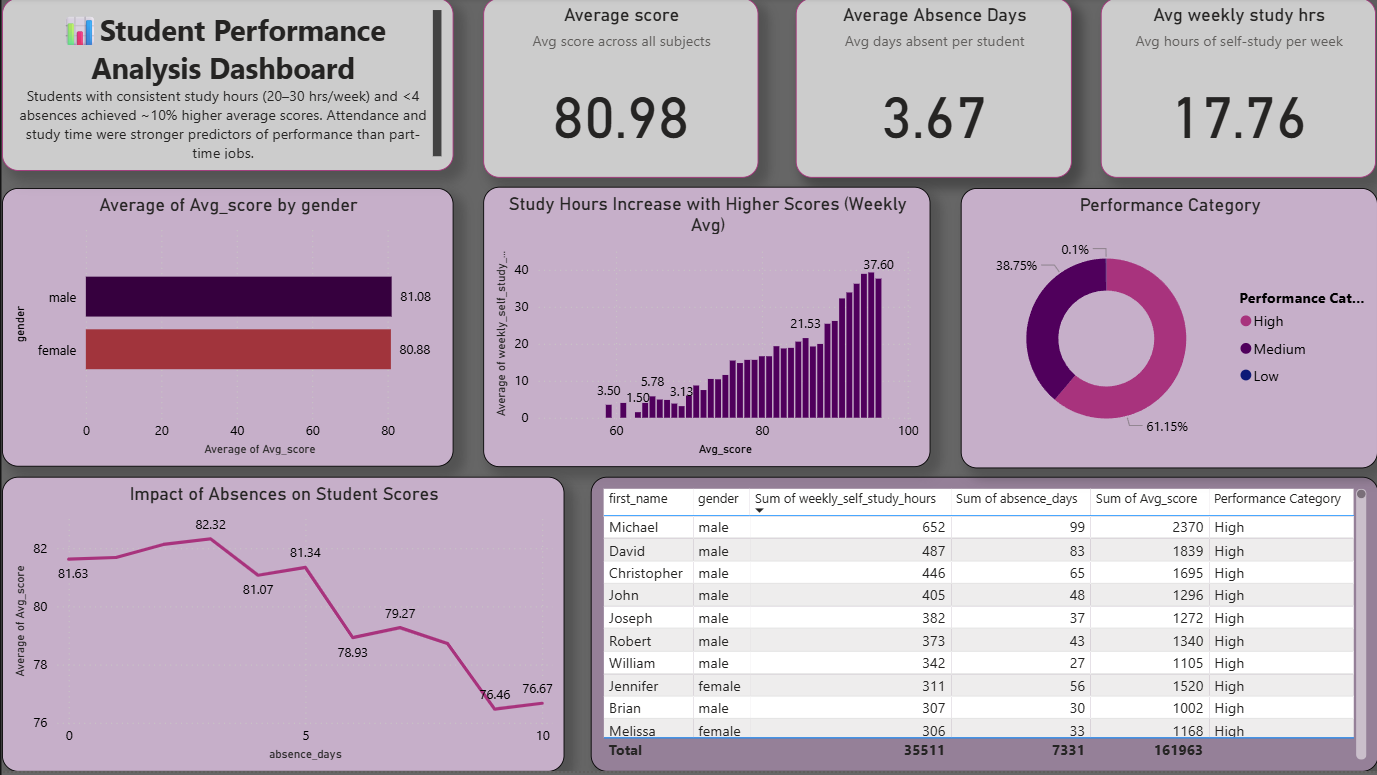

The dashboard page shown, as its layout file describes it:
{"tool":"powerbi","page":{"name":"Page 1","canvas":[1280,720],"ordinal":0},"visuals":[{"type":"card","title":"Average score","fields":{"Values":["student-scores.Avg_score"]},"box":[447.7,0,255.8,167.4],"z":0},{"type":"actionButton","box":[0,0,100,40],"z":1000},{"type":"card","title":"Avg weekly study hrs","fields":{"Values":["student-scores.weekly_self_study_hours"]},"box":[1022.1,0,256,167.4],"z":2000},{"type":"card","title":"Average Absence Days","fields":{"Values":["student-scores.absence_days"]},"box":[738.4,0,257,167.4],"z":3000},{"type":"barChart","fields":{"Category":["student-scores.gender"],"Y":["student-scores.Avg_score"]},"box":[0,176.7,419.8,259.3],"z":4000},{"type":"columnChart","title":"Study Hours Increase with Higher Scores (Weekly Avg)","fields":{"Y":["student-scores.weekly_self_study_hours"],"Category":["student-scores.Avg_score"]},"box":[447.7,175.6,416.3,260.5],"z":5000},{"type":"tableEx","fields":{"Values":["student-scores.first_name","student-scores.gender","student-scores.weekly_self_study_hours","student-scores.absence_days","student-scores.Avg_score","student-scores.Performance Category"]},"box":[547.7,445.4,732.6,274.4],"z":6000},{"type":"lineChart","title":"Impact of Absences on Student Scores","fields":{"Category":["student-scores.absence_days"],"Y":["student-scores.Avg_score"]},"box":[0,445.4,523.3,274.4],"z":7000},{"type":"donutChart","title":" Performance Category","fields":{"Category":["student-scores.Performance Category"],"Y":["student-scores.id"]},"box":[891.9,176.7,388.4,260.5],"z":8000},{"type":"textbox","box":[0,0,419.8,160.5],"z":9000}]}

Visuals, with their boxes in screenshot pixels (x1, y1, x2, y2), scaled from the page's 1280x720 canvas onto the 1377x775 screenshot:
"Average score" card: select_region(482, 0, 757, 180)
actionButton: select_region(0, 0, 108, 43)
"Avg weekly study hrs" card: select_region(1100, 0, 1375, 180)
"Average Absence Days" card: select_region(794, 0, 1071, 180)
barChart - student-scores.gender x student-scores.Avg_score: select_region(0, 190, 452, 469)
"Study Hours Increase with Higher Scores (Weekly Avg)" columnChart: select_region(482, 189, 929, 469)
tableEx - student-scores.first_name x student-scores.gender: select_region(589, 479, 1376, 774)
"Impact of Absences on Student Scores" lineChart: select_region(0, 479, 563, 774)
" Performance Category" donutChart: select_region(959, 190, 1376, 471)
textbox: select_region(0, 0, 452, 173)
